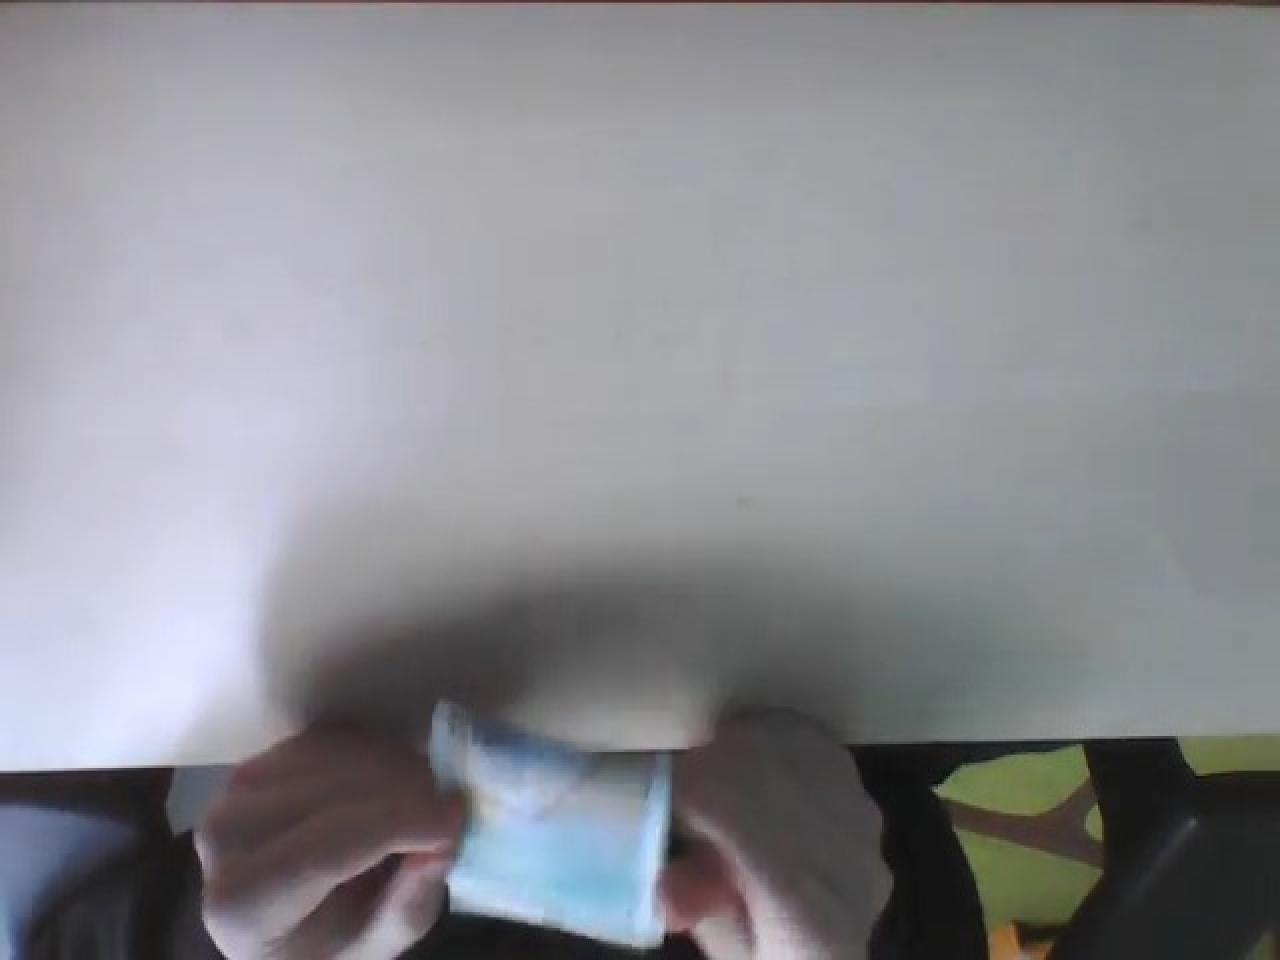100leva: (424, 696, 676, 952)
